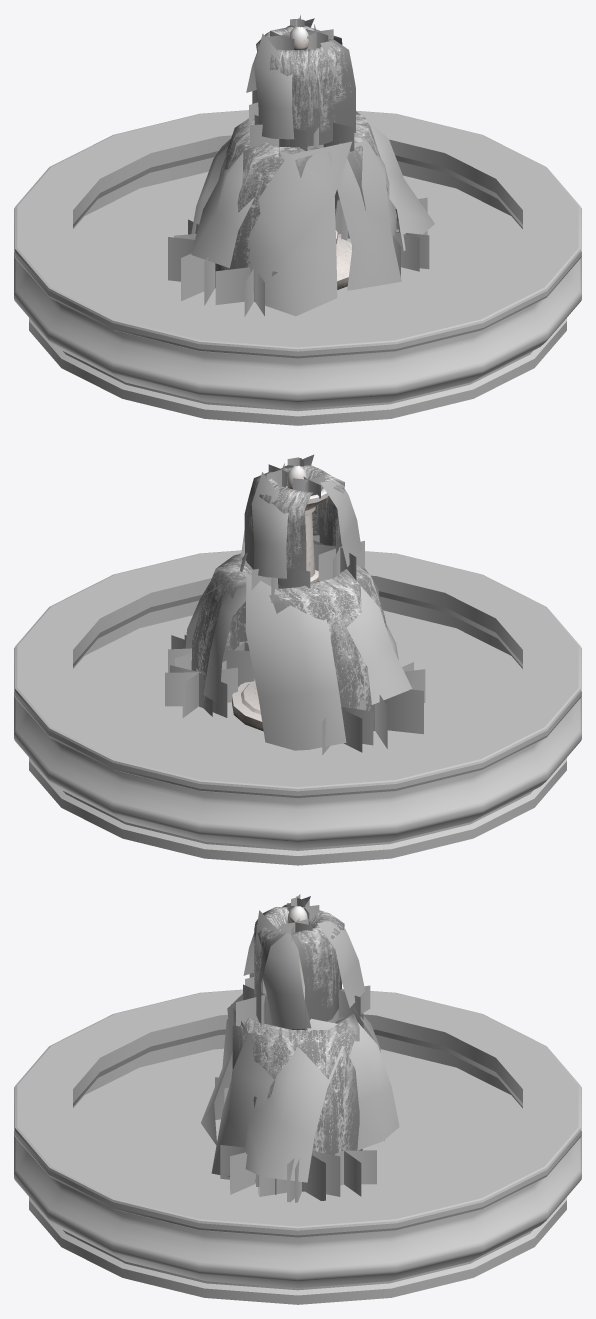
Rendered from Fountain.obj.
The picture shows the model from 3 angles, top to bottom: view 1: azimuth 30°, elevation 25°; view 2: azimuth 150°, elevation 25°; view 3: azimuth 270°, elevation 25°; orthographic projection.
Parts seen in each view (by area): view 1: Object002, Object006, Object005, Plane001, Object007, Object004, Plane009, Plane008, Plane006, Plane015, Plane013; view 2: Object002, Plane001, Object008, Plane005, Plane009, Object003, Plane007, Object007, Plane010, Plane015, Plane014; view 3: Object002, Object004, Object003, Object009, Object005, Plane007, Object008, Object006, Plane005, Plane006, Plane013, Plane014.
Boxes of the visible parts, x1,y1,x2,y2 form: Object002: [14, 25, 581, 425]; Object006: [249, 141, 352, 316]; Object005: [327, 138, 401, 290]; Plane001: [191, 139, 254, 268]; Object007: [254, 33, 294, 139]; Object004: [358, 114, 434, 250]; Plane009: [168, 237, 238, 305]; Plane008: [215, 267, 277, 316]; Plane006: [352, 226, 429, 276]; Plane015: [250, 115, 307, 162]; Plane013: [307, 122, 354, 151]; Object002: [14, 465, 581, 865]; Plane001: [245, 572, 412, 750]; Object008: [251, 472, 288, 578]; Plane005: [165, 660, 237, 717]; Plane009: [375, 680, 423, 748]; Object003: [203, 552, 247, 703]; Plane007: [168, 635, 254, 687]; Object007: [320, 480, 361, 566]; Plane010: [322, 700, 373, 755]; Plane015: [313, 540, 364, 581]; Plane014: [251, 568, 310, 602]; Object002: [14, 905, 581, 1304]; Object004: [245, 1041, 344, 1182]; Object003: [307, 1018, 399, 1150]; Object009: [254, 910, 311, 1029]; Object005: [211, 1004, 273, 1181]; Plane007: [256, 1151, 340, 1202]; Object008: [317, 921, 365, 1007]; Object006: [201, 994, 242, 1145]; Plane005: [321, 1148, 376, 1196]; Plane006: [220, 1145, 276, 1194]; Plane013: [236, 984, 277, 1026]; Plane014: [327, 985, 370, 1023].
Size of the model in its own units: 6.82 by 3.81 by 6.72.
